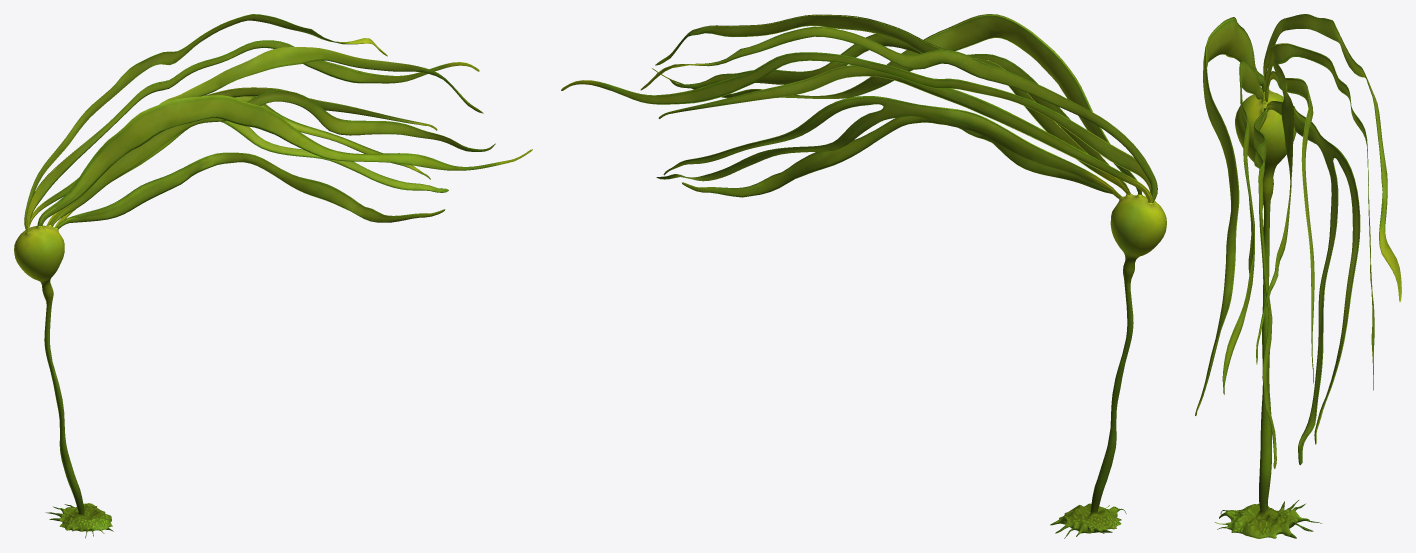
Rendered from kelp_animated.fbx.
The picture shows the model from 3 angles, left to right: view 1: azimuth 30°, elevation 25°; view 2: azimuth 150°, elevation 25°; view 3: azimuth 270°, elevation 25°; orthographic projection. The views are drawn at different scales.
Parts seen in each view (by area): view 1: node_id30; view 2: node_id30; view 3: node_id30.
Boxes of the visible parts, x1,y1,x2,y2 form: node_id30: [14, 14, 532, 538]; node_id30: [561, 14, 1166, 538]; node_id30: [1195, 14, 1401, 538].
Size of the model in its own units: 27.4 by 22.32 by 7.4.
